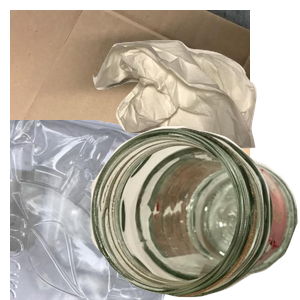cardboard: (10, 10, 250, 190)
glass: (90, 126, 300, 300)
plastic: (10, 120, 197, 300)
trash: (90, 38, 300, 183)
